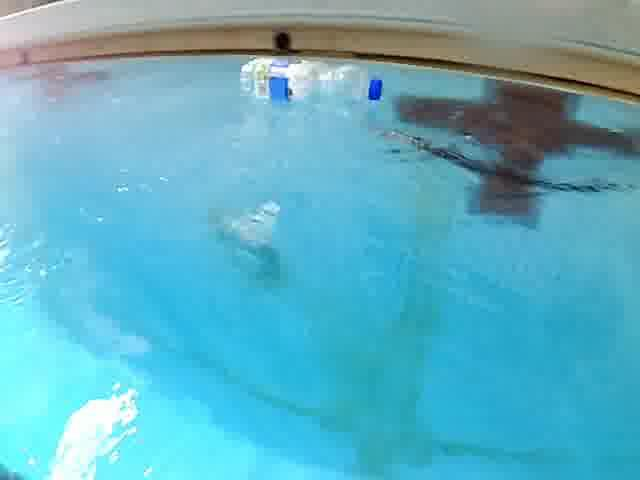Bottle: (239, 53, 384, 114)
